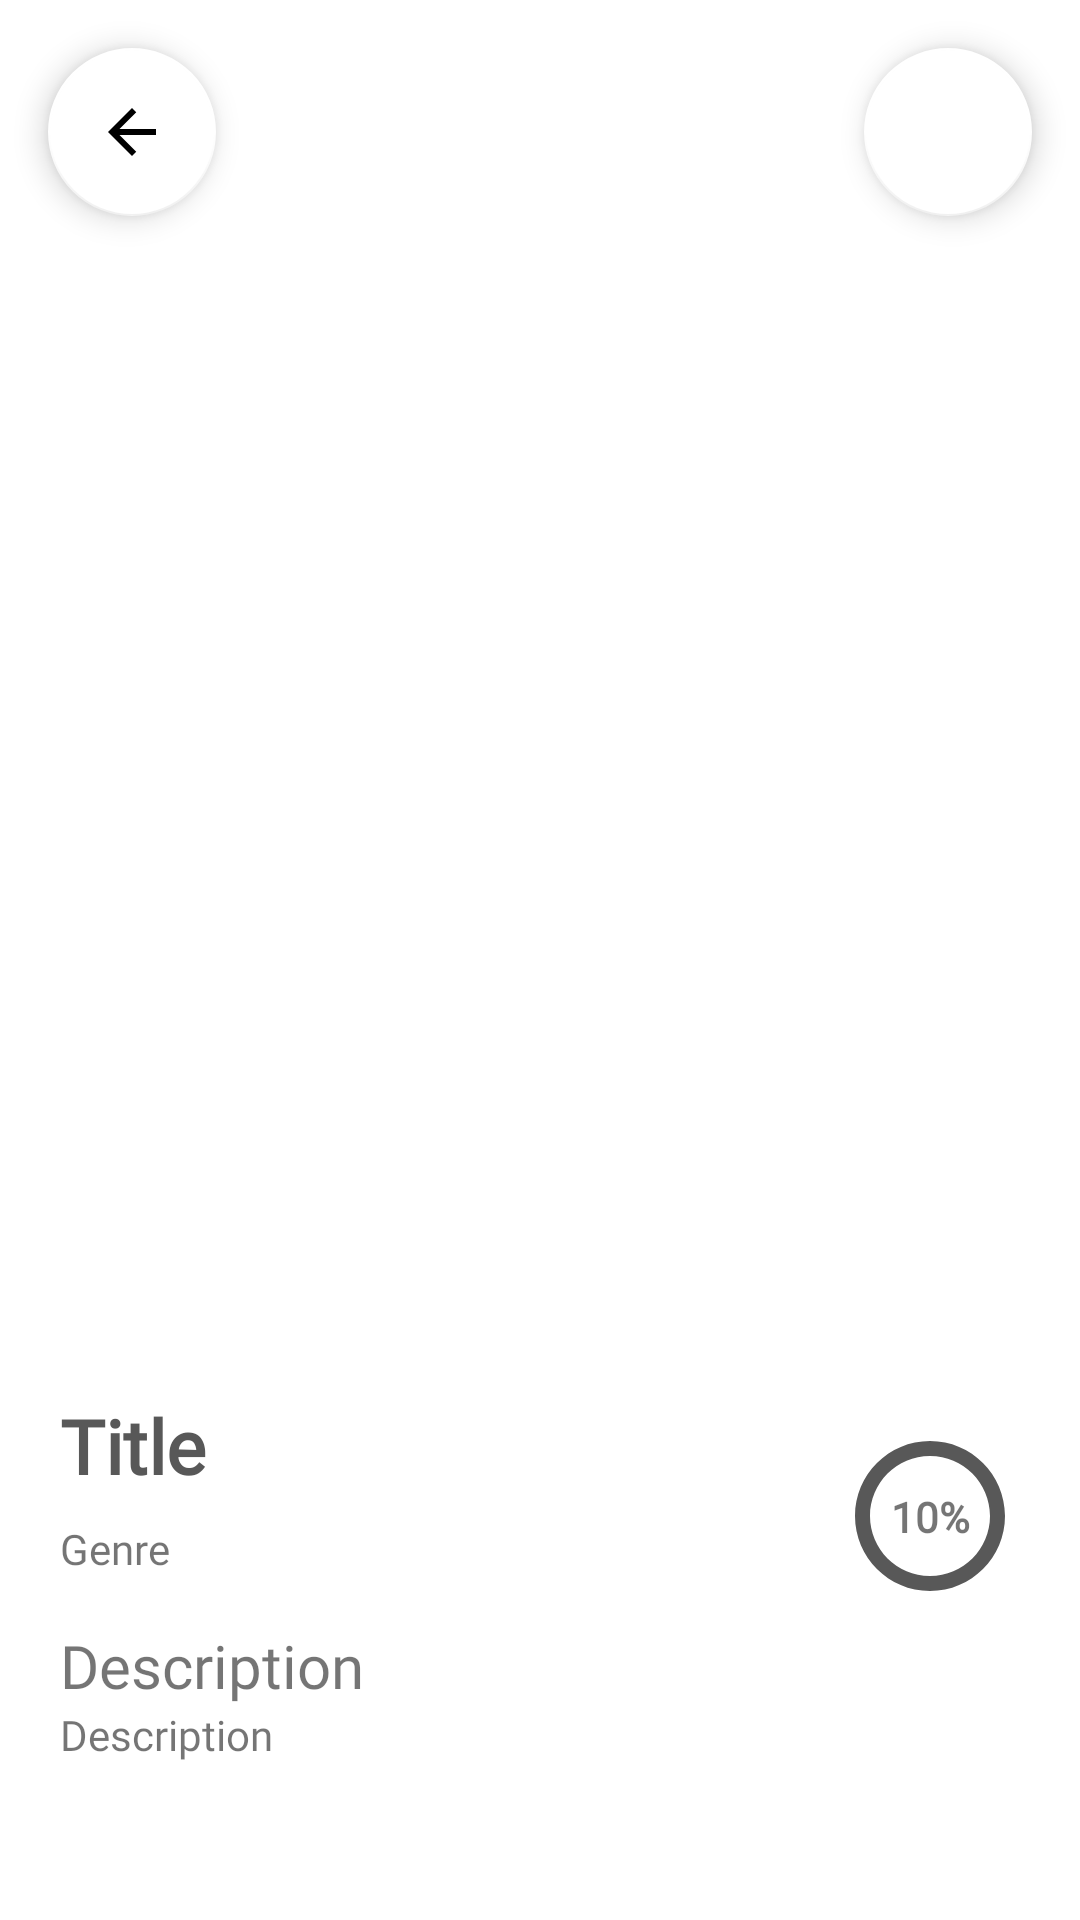

Icons on this 1080w x 1920h Android screen, each with the point to tap as (x=x, y=y):
arrow back: (x=102, y=138)
